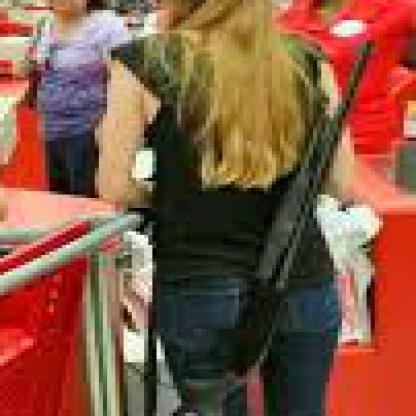gun: (111, 0, 412, 413), (0, 248, 412, 413)
